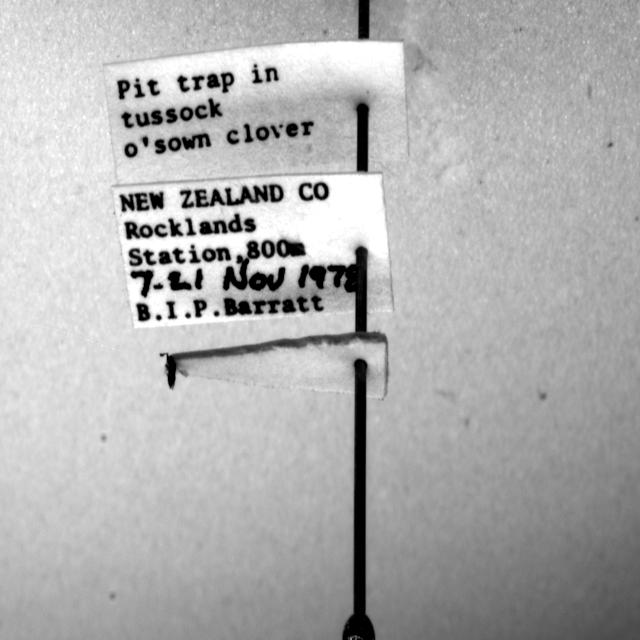typed_label: (104, 39, 409, 184), (112, 172, 392, 328)
